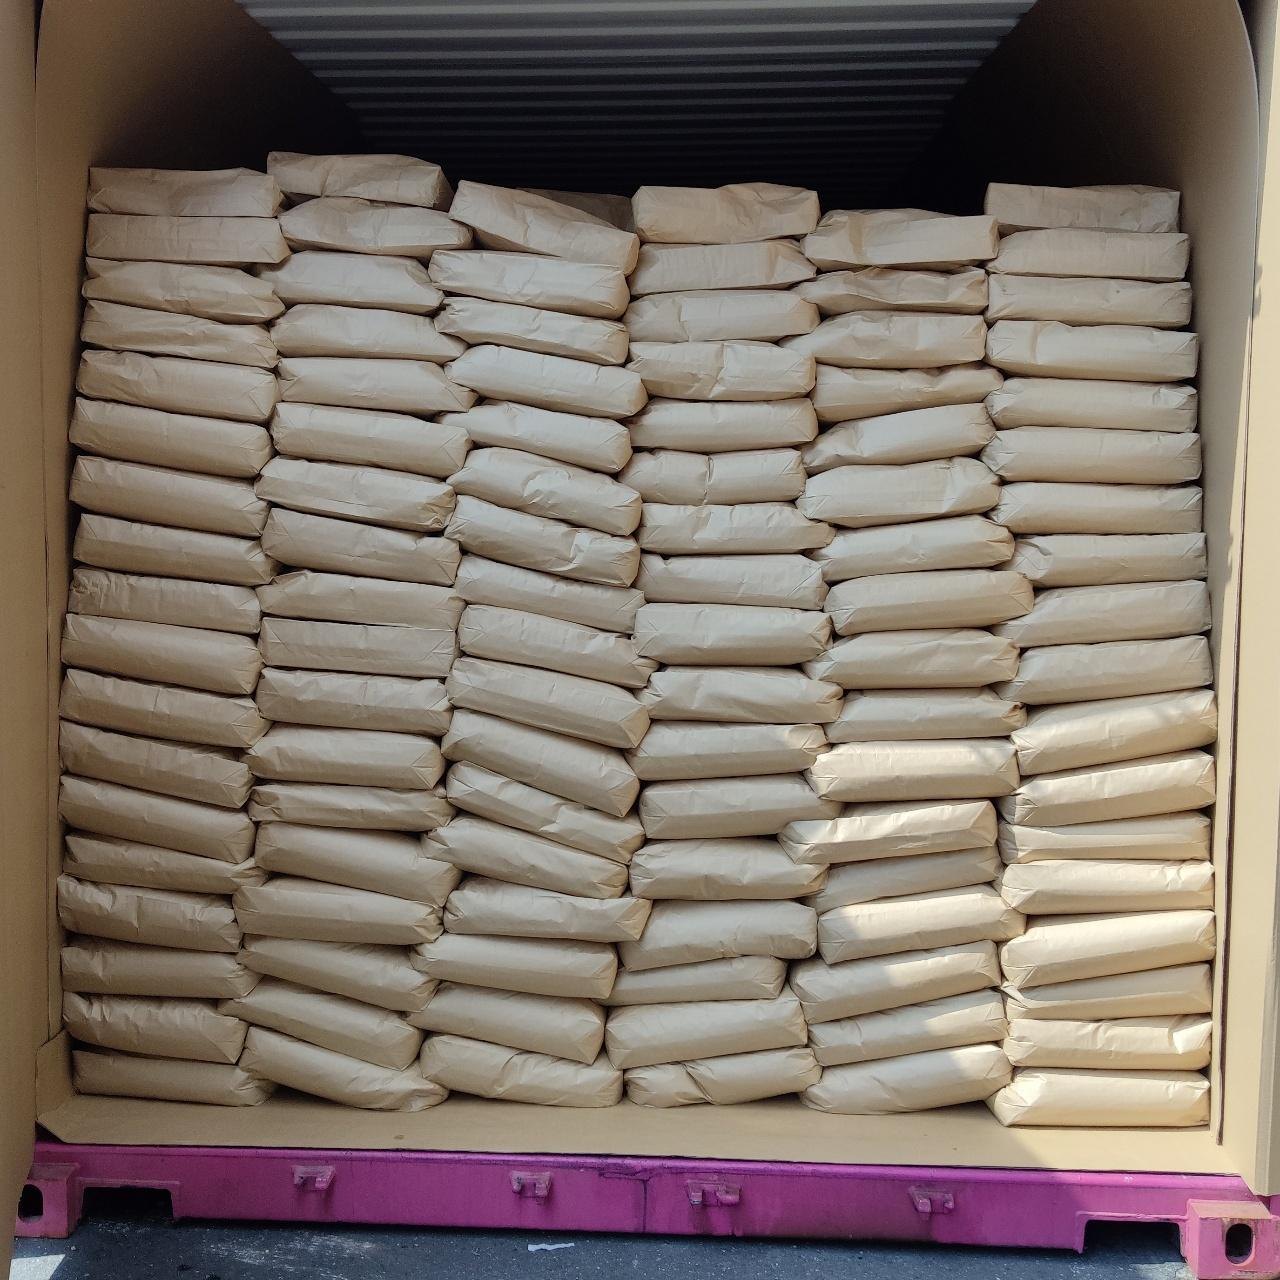sack: (442, 709, 638, 815), (447, 763, 643, 862), (220, 976, 422, 1068), (446, 657, 649, 747), (449, 181, 639, 275), (445, 496, 640, 587), (238, 1026, 447, 1110), (1012, 690, 1216, 776), (60, 720, 253, 809), (446, 447, 641, 535), (790, 941, 999, 1023), (422, 815, 627, 898), (60, 776, 254, 862), (1001, 910, 1214, 988), (255, 822, 458, 903), (459, 605, 657, 688), (60, 669, 267, 748), (69, 397, 272, 477), (1000, 752, 1214, 827), (819, 885, 1024, 963), (71, 456, 268, 537), (62, 614, 261, 693), (410, 982, 604, 1063), (606, 991, 807, 1069), (270, 402, 471, 478), (262, 508, 460, 585), (238, 934, 437, 1010), (256, 456, 455, 532), (455, 555, 644, 633), (811, 990, 1007, 1065), (421, 1034, 622, 1107), (77, 350, 277, 423), (995, 580, 1209, 648), (445, 346, 647, 418), (74, 514, 278, 585), (999, 636, 1212, 704), (796, 457, 999, 527), (59, 875, 240, 953), (233, 877, 442, 944), (801, 1045, 1010, 1112), (1002, 1002, 1211, 1069), (412, 933, 617, 1001), (777, 801, 996, 864), (824, 570, 1033, 636), (428, 251, 629, 319), (810, 515, 1013, 582), (444, 876, 650, 942), (804, 738, 1019, 801), (81, 300, 277, 369), (621, 901, 817, 970), (441, 402, 631, 473), (256, 667, 449, 736), (63, 991, 247, 1063), (82, 257, 284, 322), (242, 724, 444, 789), (639, 774, 841, 839), (804, 404, 994, 473), (434, 297, 627, 364), (807, 846, 1002, 912), (68, 568, 259, 635), (987, 320, 1196, 381), (986, 1069, 1209, 1126), (803, 630, 1018, 689), (982, 426, 1200, 482), (257, 570, 463, 629), (62, 936, 258, 998), (64, 834, 266, 894), (633, 603, 831, 664), (258, 617, 455, 678), (629, 838, 826, 899), (628, 720, 827, 780), (803, 209, 998, 270), (996, 859, 1212, 914), (780, 311, 987, 368), (625, 1047, 821, 1107), (1002, 964, 1211, 1020), (279, 357, 476, 416), (986, 377, 1196, 432), (279, 197, 471, 257), (811, 362, 1003, 422), (637, 666, 842, 722), (260, 251, 442, 314), (72, 1050, 275, 1106), (1001, 532, 1207, 587), (271, 304, 465, 362), (632, 183, 819, 242), (989, 482, 1201, 534), (626, 342, 815, 400), (985, 275, 1191, 328), (825, 688, 1025, 742), (1000, 812, 1210, 863), (268, 151, 452, 209), (637, 554, 827, 610), (621, 448, 806, 504), (87, 214, 290, 265), (630, 398, 818, 453), (629, 240, 814, 295), (248, 782, 455, 831), (987, 230, 1188, 280), (623, 290, 819, 341), (638, 503, 833, 554), (985, 183, 1177, 234), (88, 167, 283, 217), (796, 267, 988, 315), (602, 956, 786, 1005)
